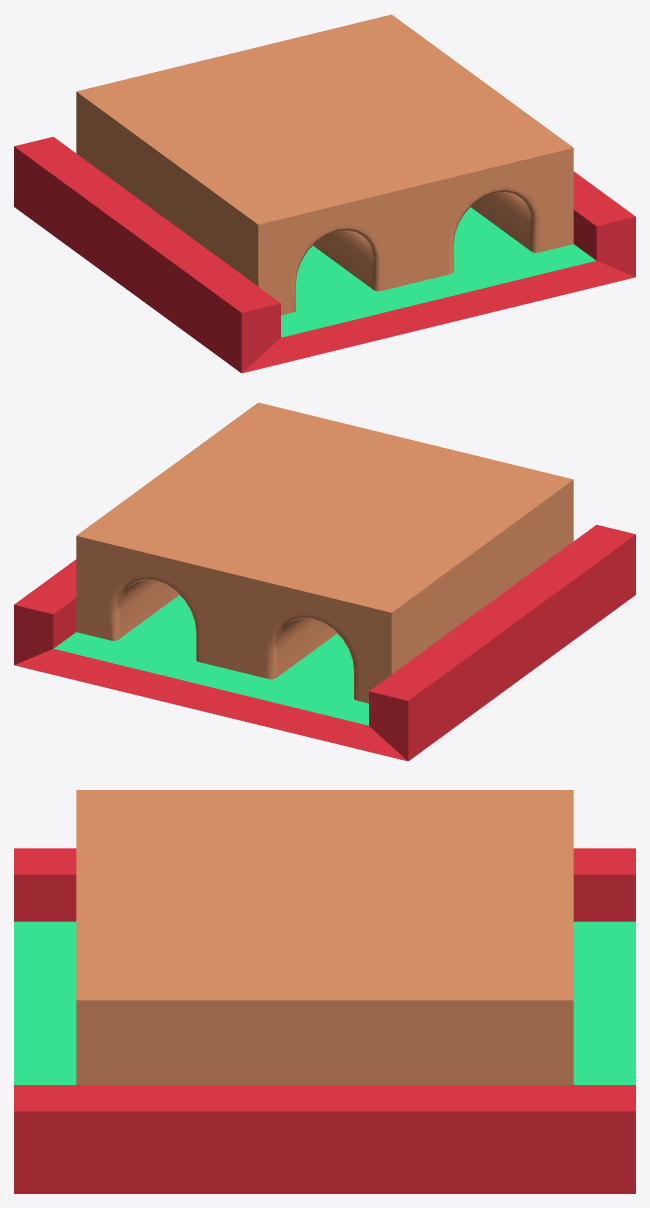
File: tunnelDouble.fbx
3 views of the same model, one above another, from view 1: azimuth 30°, elevation 25°; view 2: azimuth 150°, elevation 25°; view 3: azimuth 270°, elevation 25° (orthographic). The views are drawn at different scales.
Parts seen in each view (by area): view 1: tunnelDouble; view 2: tunnelDouble; view 3: tunnelDouble.
Boxes of the visible parts, box(x1,y1,x2,y2) form: tunnelDouble: box(14, 14, 635, 373); tunnelDouble: box(14, 402, 635, 761); tunnelDouble: box(14, 790, 635, 1193).
Bounding box in the file's own units: 99.99 × 99.99 × 29.66.
